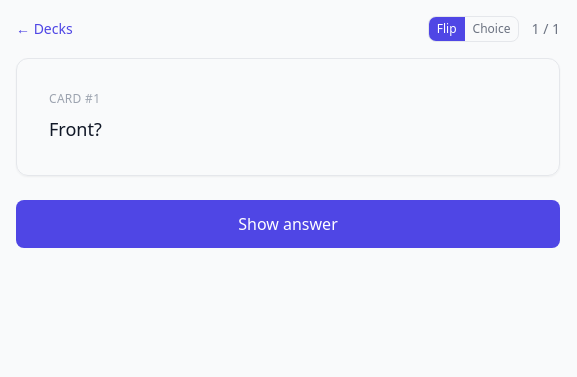
Test: StudyPage › reveals the answer then grades via the API
Expected: the text "Front?" is shown, x1=49 y1=117 x2=102 y2=141
Expected: the text "Back!" is not shown
Click the button "Show answer": (288, 224) x1=16 y1=200 x2=560 y2=248
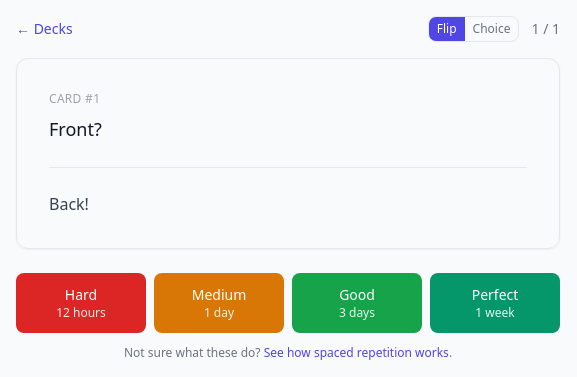
Expected: the text "Back!" is shown, x1=49 y1=193 x2=89 y2=215
Expected: the button "Hard 12 hours" is shown, x1=16 y1=273 x2=146 y2=333
Expected: the button "Medium 1 day" is shown, x1=154 y1=273 x2=284 y2=333
Click the button "Good 3 days": (357, 303) x1=292 y1=273 x2=422 y2=333
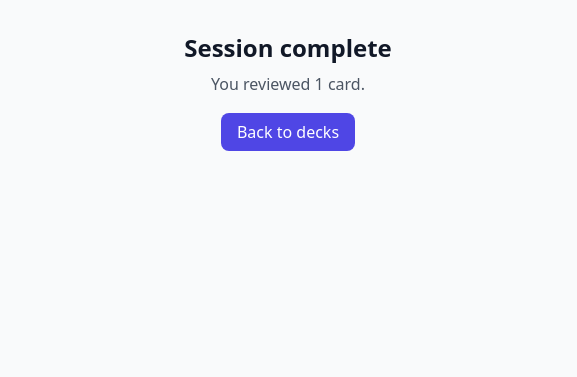
Expected: the heading "Session complete" is shown, x1=184 y1=31 x2=392 y2=64
